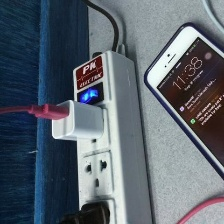phone: (139, 16, 223, 187)
three_eye_plug: (67, 44, 159, 223)
